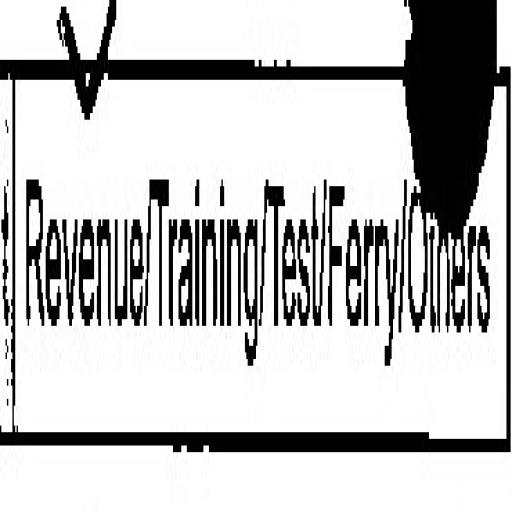check: (14, 0, 147, 494)
